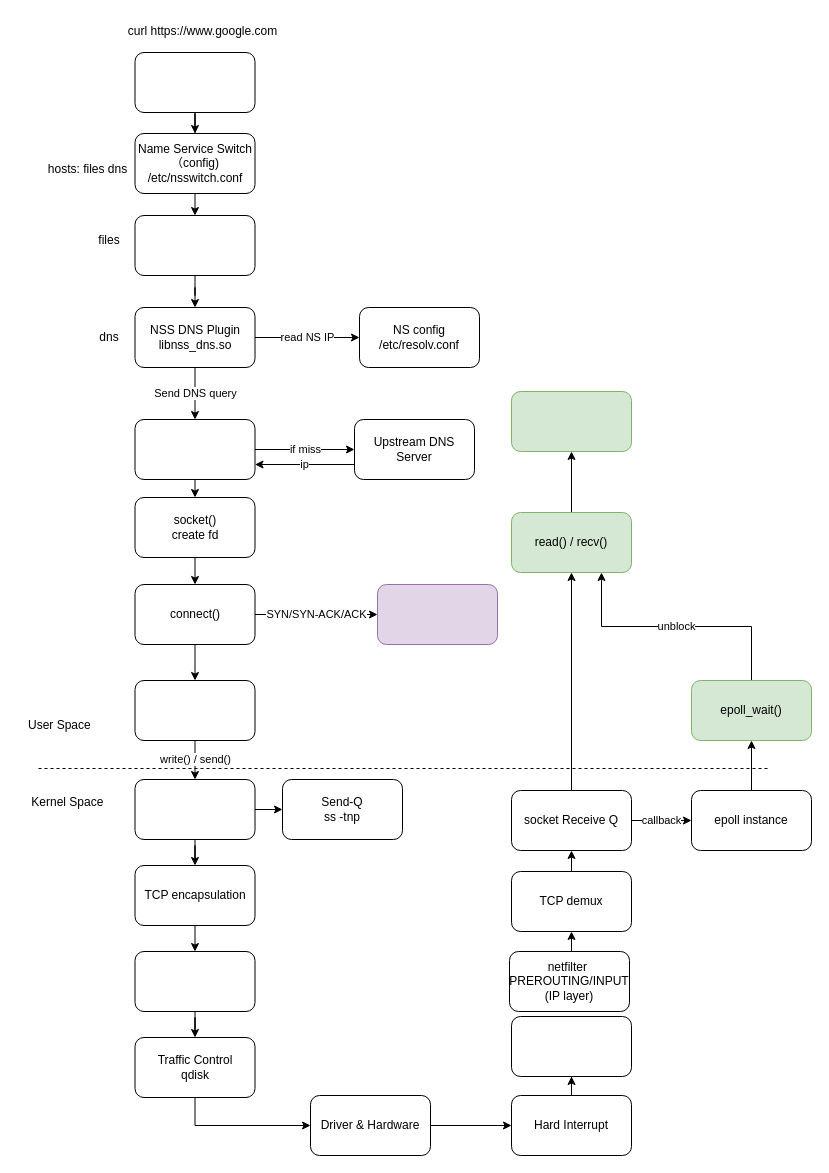
Image size: 829x1173. Some labels were removed from this diagram. The centre of each missing label's shape, as x and y in pixels:
"curl" goes at point (571, 421).
"getaddrinfo() （hints.ai_family= AF_UNSPEC)" goes at point (194, 82).
"IP of Server" goes at point (437, 614).
"Local cache systemd-resolved" goes at point (194, 449).
"netfilter OUTPUT/POSTROUTING (IP layer)" goes at point (194, 981).
"socket buffer" goes at point (194, 809).
"sorfirq NAPI" goes at point (571, 1046).
"Static IP Map /etc/hosts" goes at point (194, 245).
"TLS handshake" goes at point (194, 710).
